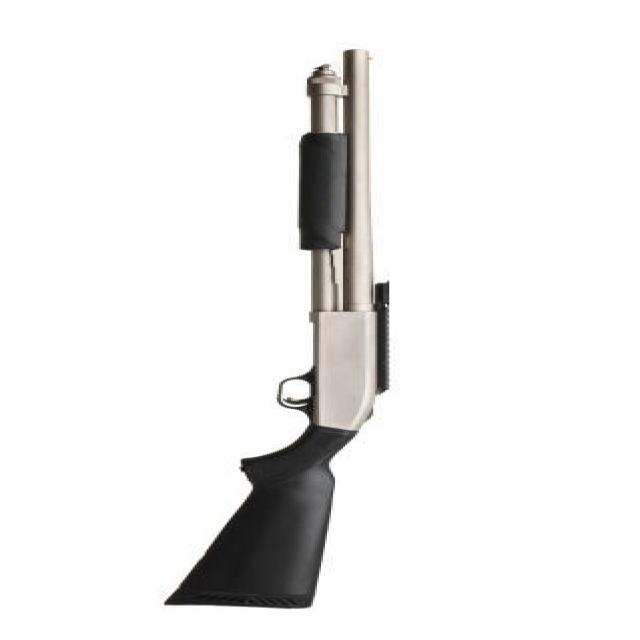rifle: (160, 42, 408, 623)
